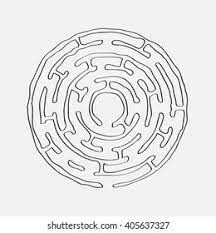maze: (36, 39, 181, 181)
